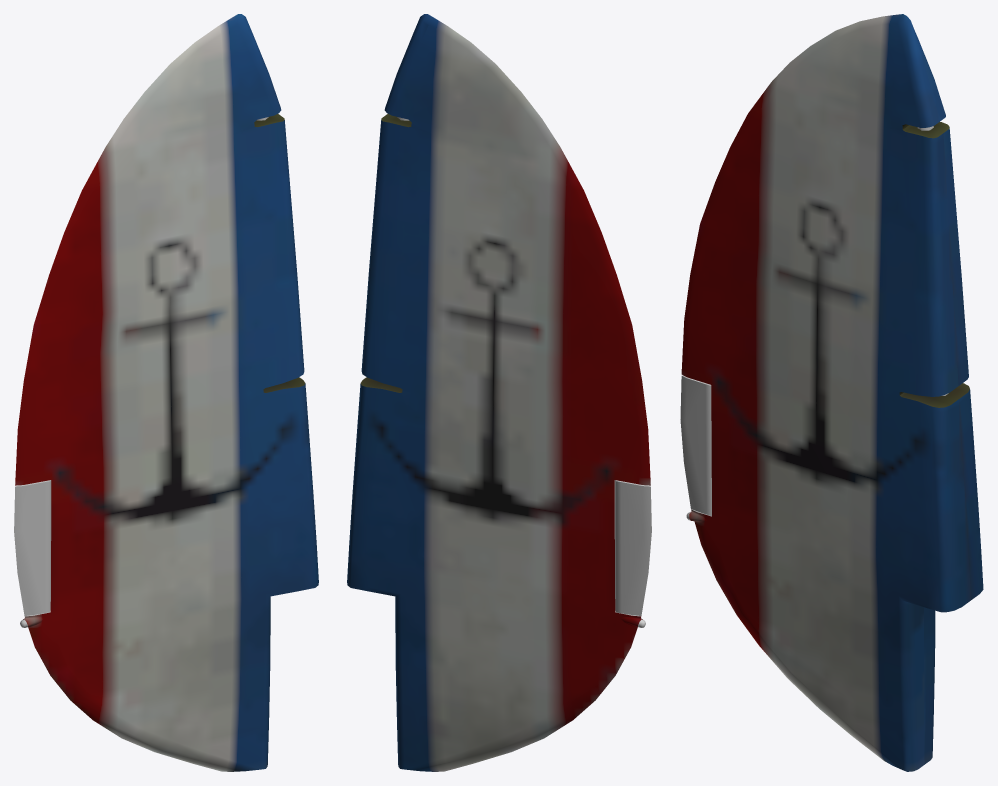
The model's file is rudder.obj.
3 views of the same model, side by side, from view 1: azimuth 30°, elevation 25°; view 2: azimuth 150°, elevation 25°; view 3: azimuth 330°, elevation 25° (orthographic).
Visible parts, largest first — view 1: sb2c_5_0.5276; view 2: sb2c_5_0.5276; view 3: sb2c_5_0.5276.
Part boxes in pixels (x1,y1,x2,y2): sb2c_5_0.5276: [14, 14, 318, 771]; sb2c_5_0.5276: [347, 14, 651, 771]; sb2c_5_0.5276: [680, 14, 983, 771].
Size of the model in its own units: 1.1 by 2.7 by 0.2558.
